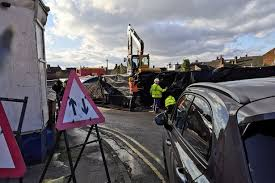vest: (151, 84, 163, 99)
